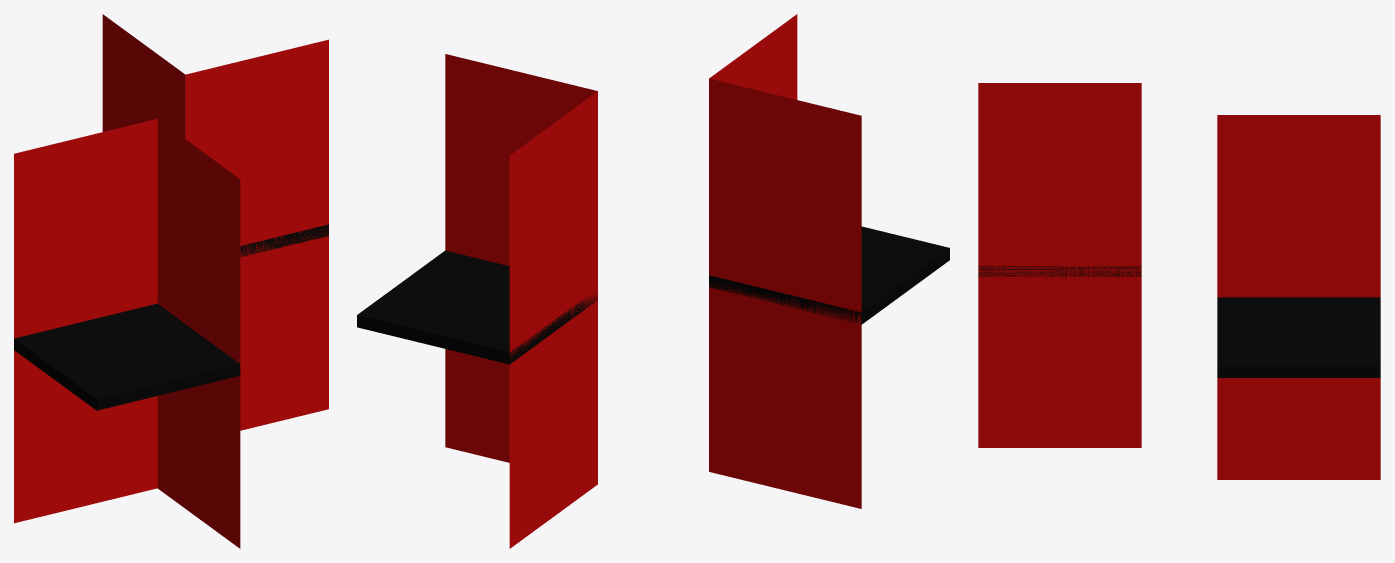
3 views of the same model, side by side, from view 1: azimuth 30°, elevation 25°; view 2: azimuth 150°, elevation 25°; view 3: azimuth 270°, elevation 25° (orthographic). The views are drawn at different scales.
Visible parts, largest first — view 1: None_P_A_E_A_A_P_A_E_None; view 2: None_P_A_E_A_A_P_A_E_None; view 3: None_P_A_E_A_A_P_A_E_None.
Boxes of the visible parts, box(x1,y1,x2,y2) form: None_P_A_E_A_A_P_A_E_None: box(14, 14, 328, 548); None_P_A_E_A_A_P_A_E_None: box(357, 14, 949, 548); None_P_A_E_A_A_P_A_E_None: box(978, 83, 1380, 479).
Bounding box in the file's own units: 100 × 100 × 100.
